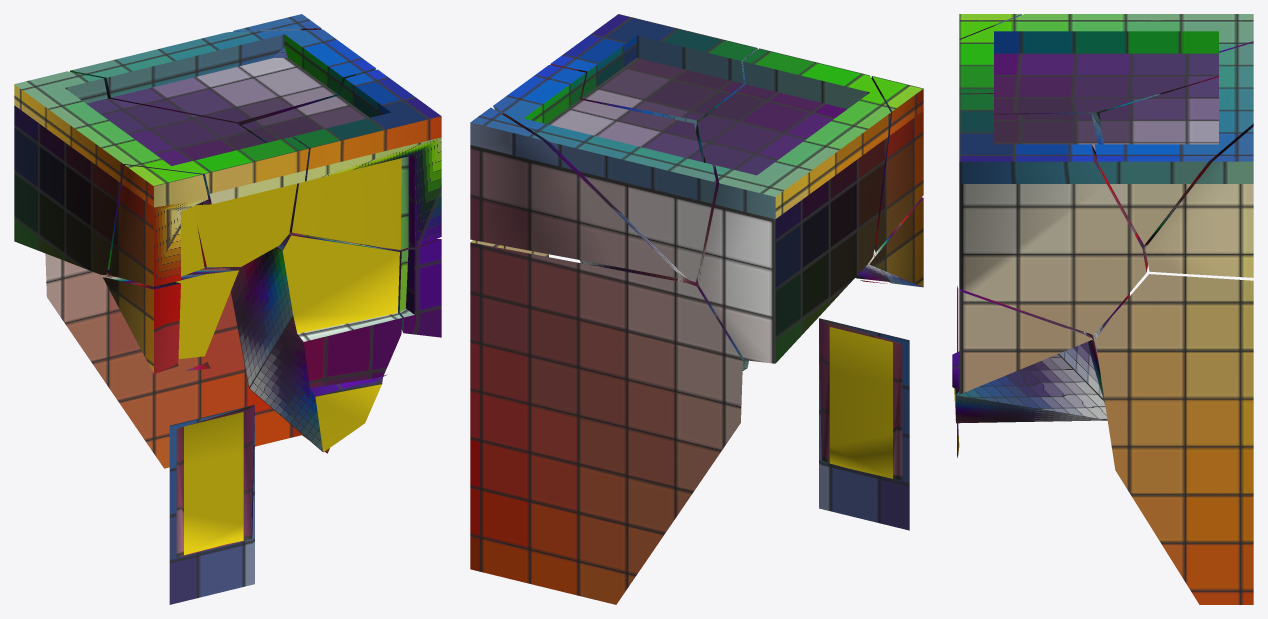
The model's file is BrokenBuilding3.fbx.
3 views of the same model, side by side, from view 1: azimuth 30°, elevation 25°; view 2: azimuth 150°, elevation 25°; view 3: azimuth 270°, elevation 25° (orthographic). The views are drawn at different scales.
Parts seen in each view (by area): view 1: B2_cell.011, B2_cell.013, B2_cell, B2_cell.004, B2_cell.010, B2_cell.015, B2_cell.014, B2_cell.001, B2_cell.003, B2_cell.005; view 2: B2_cell.010, B2_cell.011, B2_cell.004, B2_cell.015, B2_cell.005, B2_cell, B2_cell.014, B2_cell.001, B2_cell.013; view 3: B2_cell.010, B2_cell, B2_cell.011, B2_cell.004, B2_cell.005, B2_cell.013, B2_cell.003, B2_cell.014.
Part boxes in pixels (left/top/right/bottom): B2_cell.011: left=14, top=71, right=308, bottom=274; B2_cell.013: left=226, top=233, right=402, bottom=452; B2_cell: left=241, top=69, right=441, bottom=249; B2_cell.004: left=70, top=29, right=375, bottom=125; B2_cell.010: left=45, top=232, right=364, bottom=468; B2_cell.015: left=169, top=405, right=254, bottom=604; B2_cell.014: left=108, top=165, right=208, bottom=286; B2_cell.001: left=103, top=270, right=238, bottom=373; B2_cell.003: left=365, top=239, right=441, bottom=337; B2_cell.005: left=233, top=14, right=321, bottom=57; B2_cell.010: left=470, top=240, right=742, bottom=604; B2_cell.011: left=696, top=48, right=890, bottom=363; B2_cell.004: left=493, top=65, right=716, bottom=282; B2_cell.015: left=819, top=318, right=909, bottom=530; B2_cell.005: left=470, top=107, right=682, bottom=278; B2_cell: left=550, top=14, right=757, bottom=131; B2_cell.014: left=871, top=76, right=923, bottom=252; B2_cell.001: left=855, top=197, right=923, bottom=287; B2_cell.013: left=579, top=260, right=748, bottom=370; B2_cell.010: left=1095, top=274, right=1253, bottom=604; B2_cell: left=959, top=94, right=1147, bottom=334; B2_cell.011: left=959, top=14, right=1253, bottom=128; B2_cell.004: left=1094, top=42, right=1253, bottom=245; B2_cell.005: left=1145, top=127, right=1253, bottom=277; B2_cell.013: left=952, top=293, right=1129, bottom=423; B2_cell.003: left=959, top=288, right=1092, bottom=394; B2_cell.014: left=959, top=14, right=1021, bottom=39.
Size of the model in its own units: 24.05 by 33.64 by 20.71.
